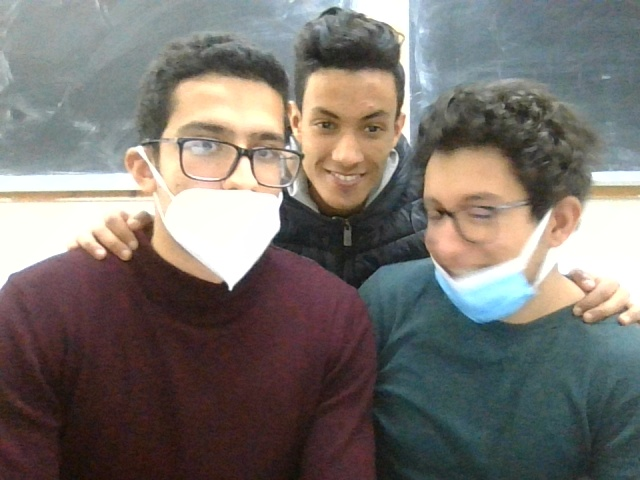mask_weared_incorrect: (130, 43, 290, 296)
without_mask: (287, 14, 408, 209)
